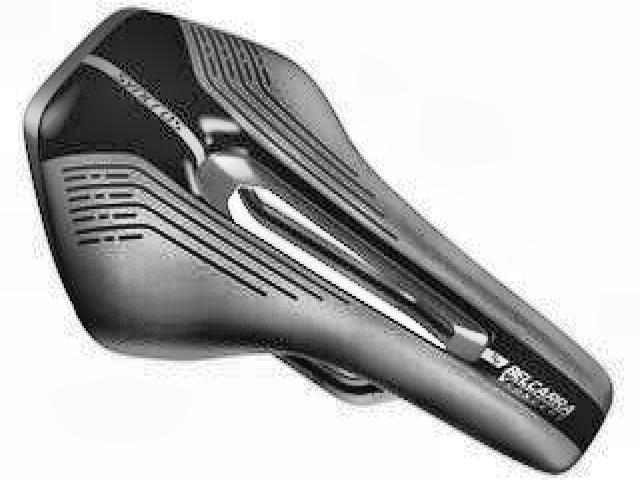saddle: (22, 4, 615, 472)
